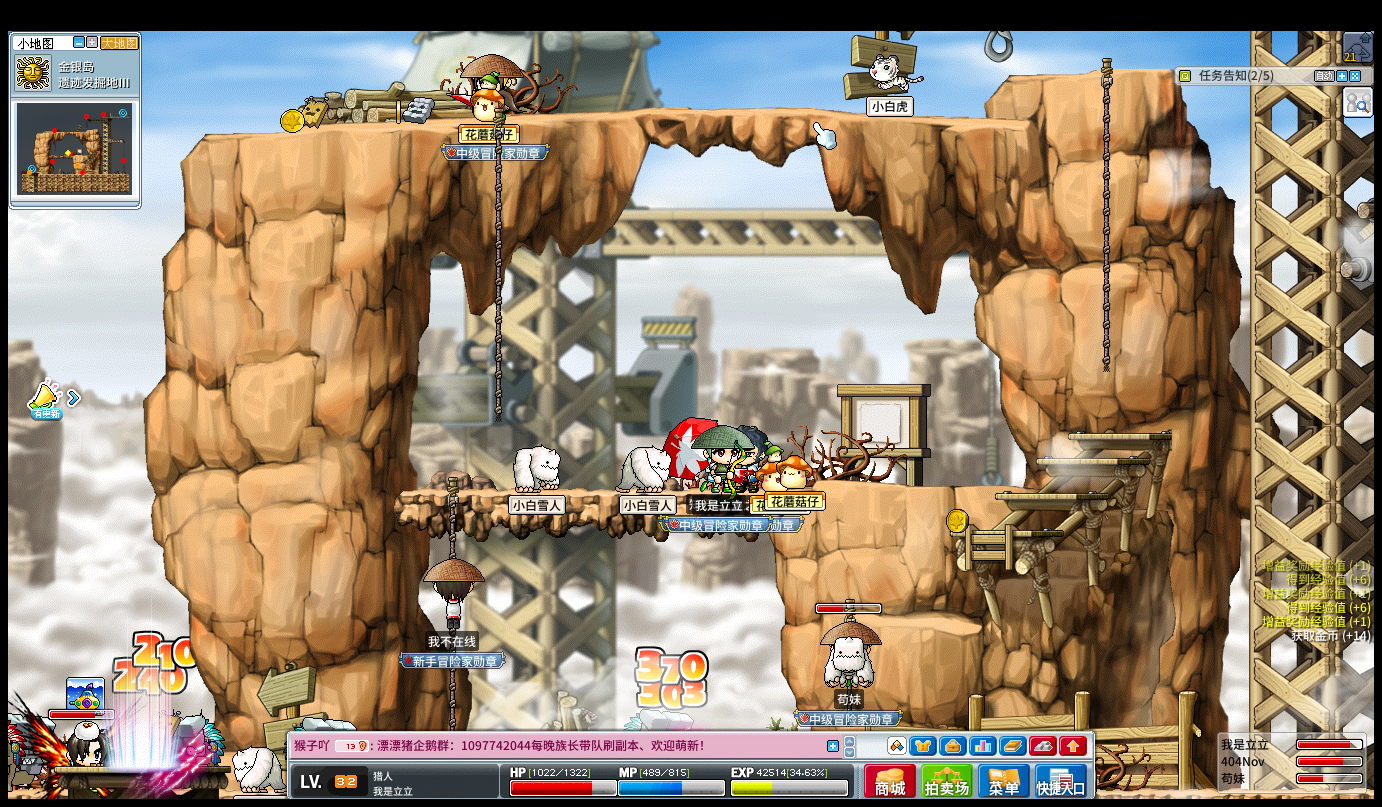floor: (189, 104, 1050, 139), (393, 488, 785, 499), (876, 612, 982, 634), (1003, 65, 1172, 78), (875, 481, 1035, 491), (1068, 429, 1173, 441), (950, 528, 1063, 537), (994, 492, 1109, 500), (1032, 456, 1147, 464)
monster: (172, 715, 224, 785)
rope: (1098, 54, 1114, 374), (492, 108, 503, 423), (1100, 58, 1114, 290), (444, 476, 458, 557), (446, 667, 457, 729)
